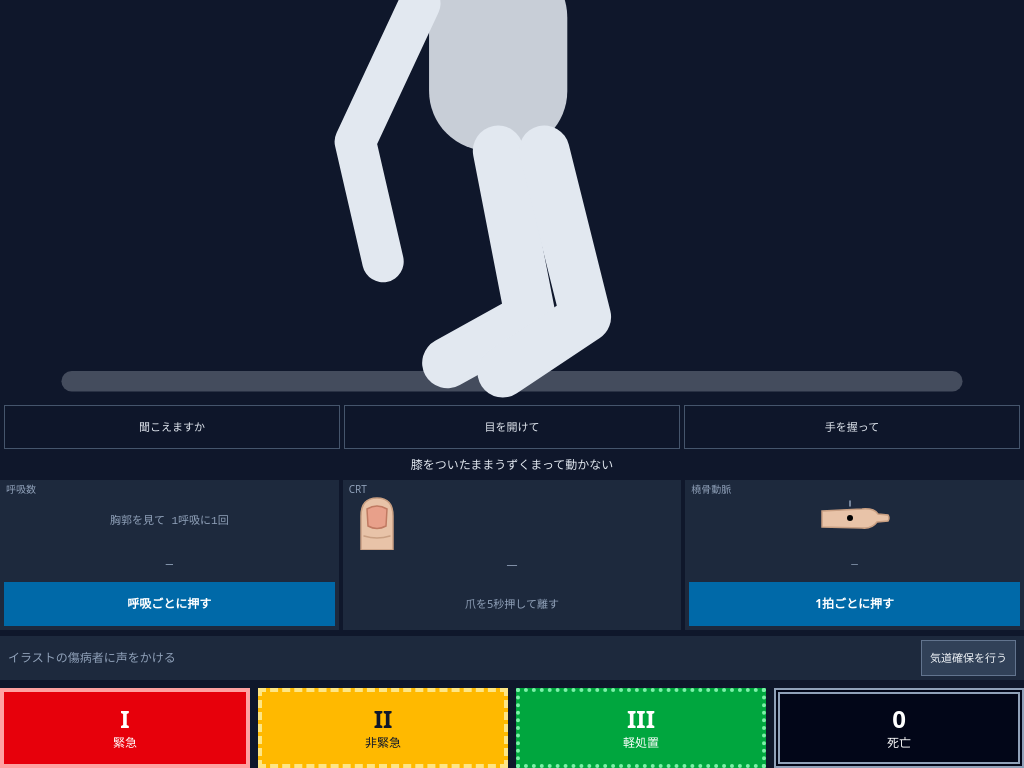
Scenario: タップ計数は回答の前提条件ではない › 一度も数えずに区分を回答できる
(page scrolled)
Click the button with aria-label "I類・緊急治療群".
click(125, 728)  # box [0,688,250,767]
(page scrolled)
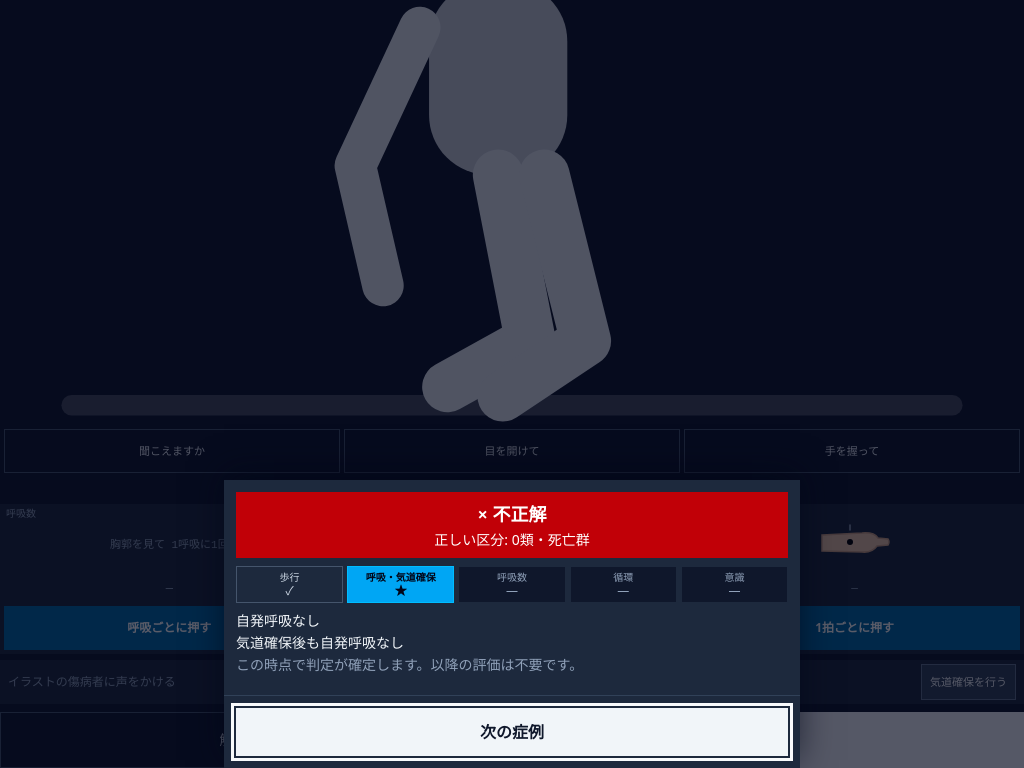
Now the text "× 不正解" is shown, box [478,502,546,526]
